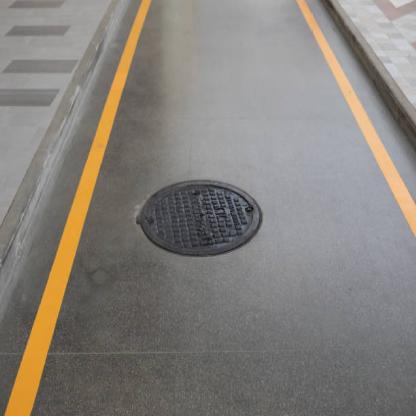closed manhole-not overflowing-: (136, 180, 263, 260)
